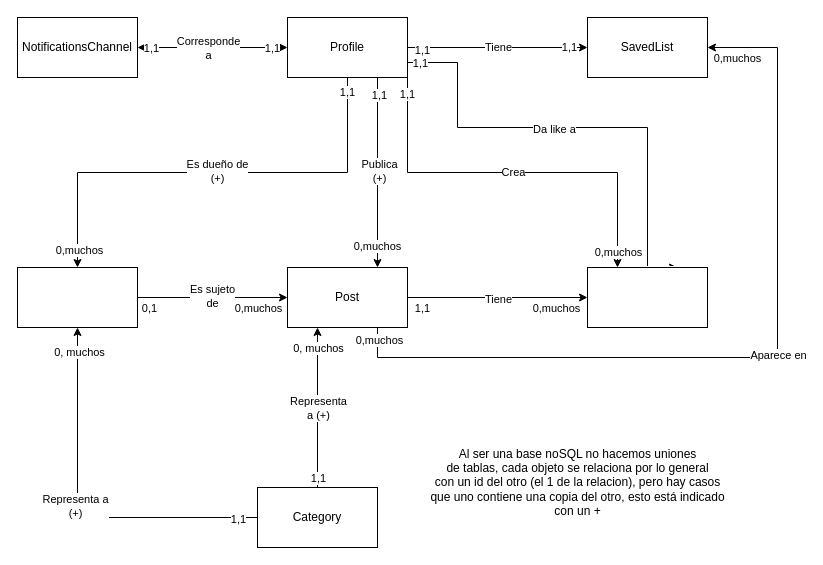
Image size: 823x565. Some labels were removed from this diagram. The centre of each missing label's shape, as x and y in pixels:
"Comment" belongs at (x=647, y=297).
"Pet" belongs at (x=77, y=297).
